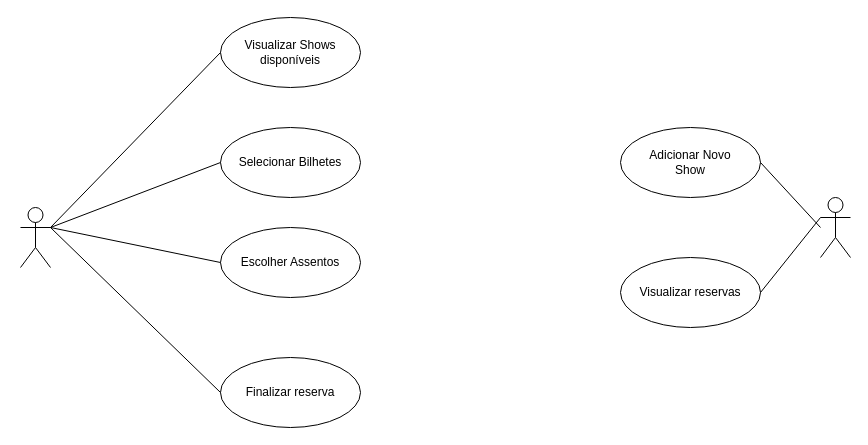
Some shapes in this 868 by 445 pixel diagram are drawn without their labels. Here are the shapes that lost their labels. From the top down, the centre of each, then its label:
(x=35, y=237): Cliente
(x=835, y=227): Adm
